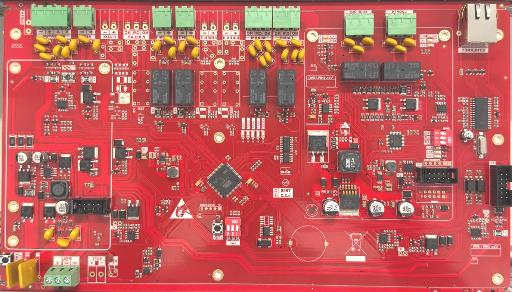var: (5, 257, 27, 289), (18, 258, 38, 288), (43, 227, 54, 240), (69, 227, 80, 240), (56, 237, 70, 247), (36, 36, 51, 45), (52, 45, 63, 57), (34, 43, 48, 52), (152, 40, 162, 52), (39, 52, 54, 60), (264, 51, 273, 64), (248, 44, 257, 57), (78, 35, 91, 44), (69, 39, 78, 52), (259, 55, 268, 68), (61, 45, 70, 58), (402, 38, 416, 46), (290, 38, 302, 47), (186, 36, 198, 45), (163, 36, 175, 45), (264, 41, 273, 53), (56, 35, 68, 44), (361, 37, 374, 45), (384, 38, 397, 46), (394, 45, 407, 53), (352, 45, 365, 53), (191, 46, 199, 59), (168, 46, 176, 59), (254, 39, 262, 52), (92, 39, 100, 52), (281, 48, 289, 61), (343, 38, 355, 46), (275, 39, 287, 47), (178, 41, 186, 53), (298, 49, 305, 62), (291, 49, 298, 62)
